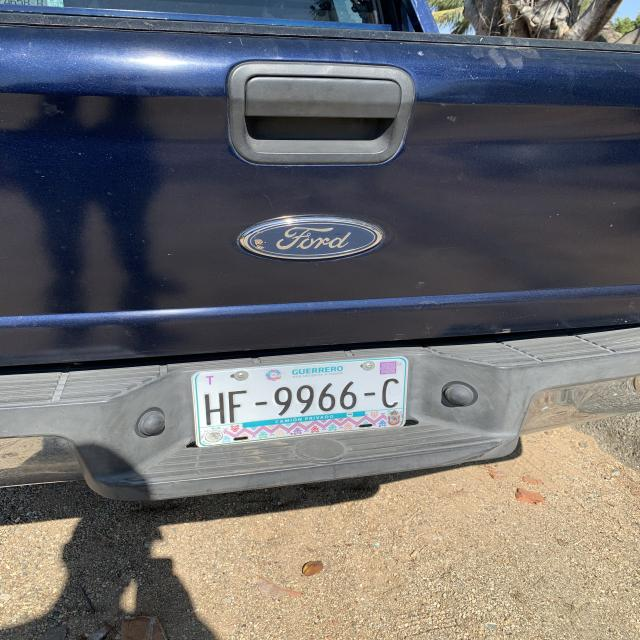placa: (190, 376, 412, 426)
